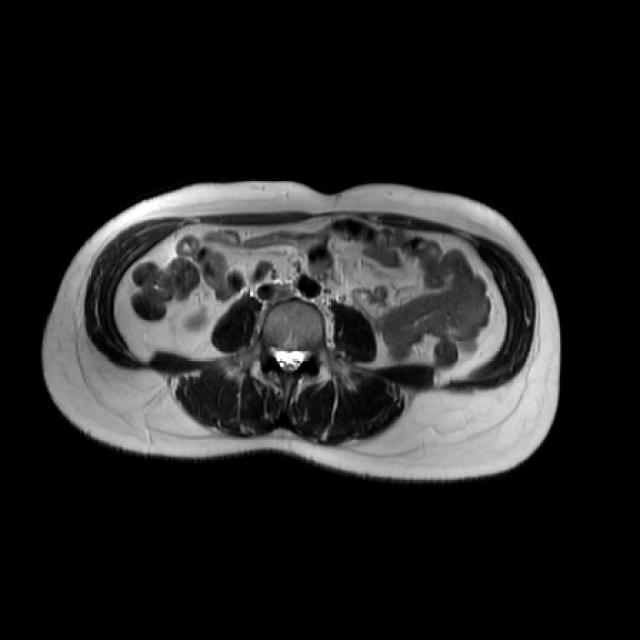sag: (182, 306, 212, 334)
